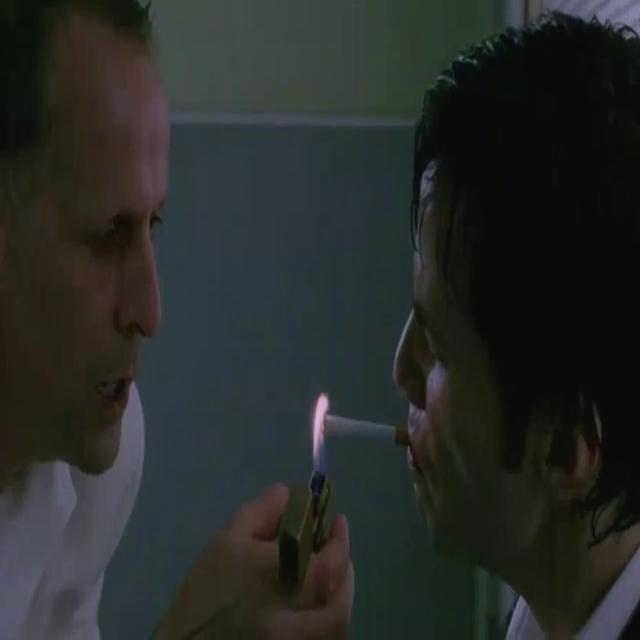Smooking: (316, 396, 408, 470)
